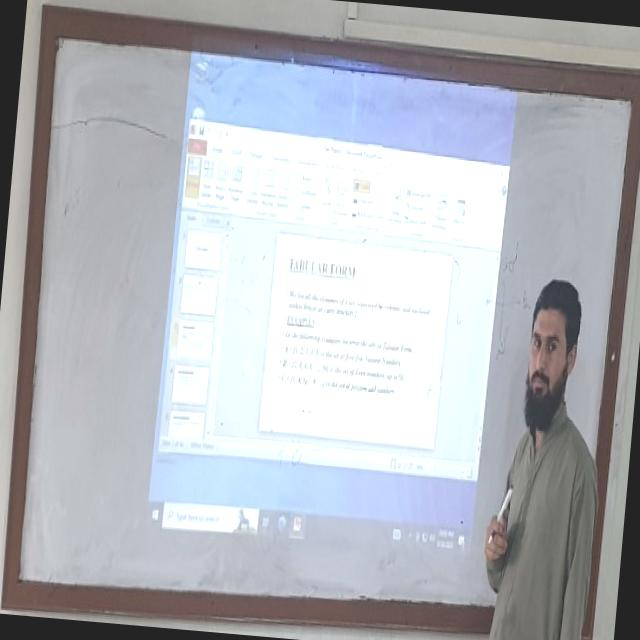Instructor: (485, 273, 618, 640)
Slide: (146, 28, 520, 565)
White-board: (12, 11, 640, 630)
